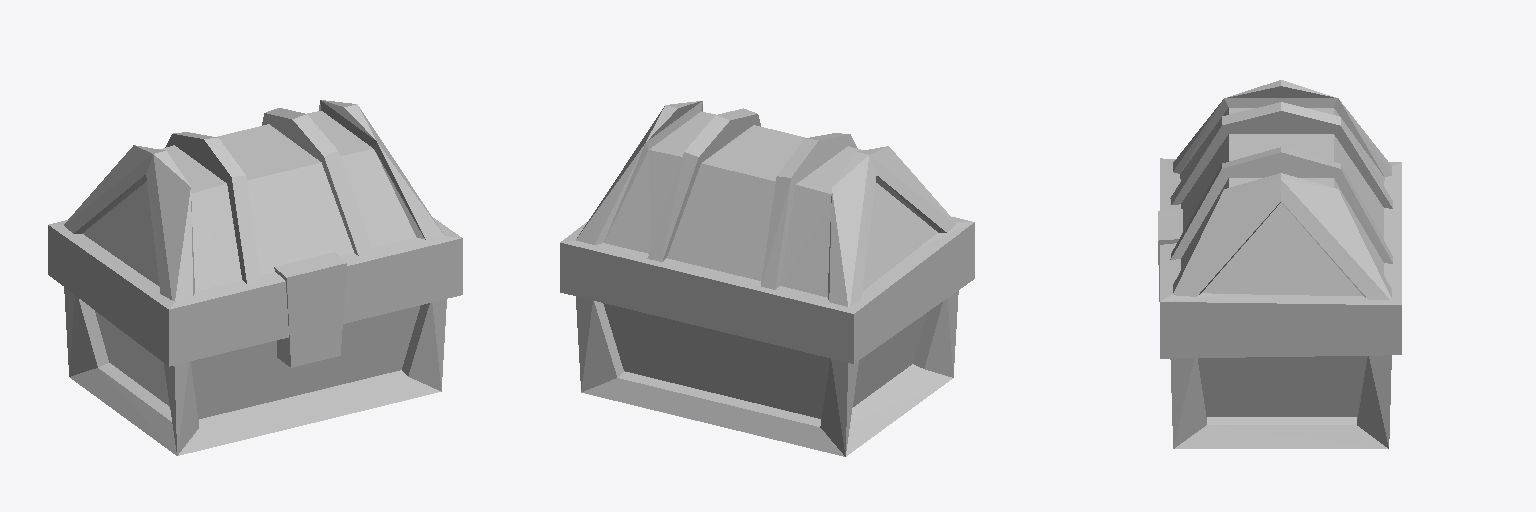
Rendered from chest_close.obj.
The picture shows the model from 3 angles: view 1: azimuth 30°, elevation 25°; view 2: azimuth 150°, elevation 25°; view 3: azimuth 270°, elevation 25°; orthographic projection.
Parts seen in each view (by area): view 1: Box001; view 2: Box001; view 3: Box001.
Boxes of the visible parts, <box> form: Box001: <box>48,100,462,455</box>; Box001: <box>560,101,974,456</box>; Box001: <box>1158,80,1401,448</box>.
Size of the model in its own units: 0.9539 by 0.7999 by 0.687.